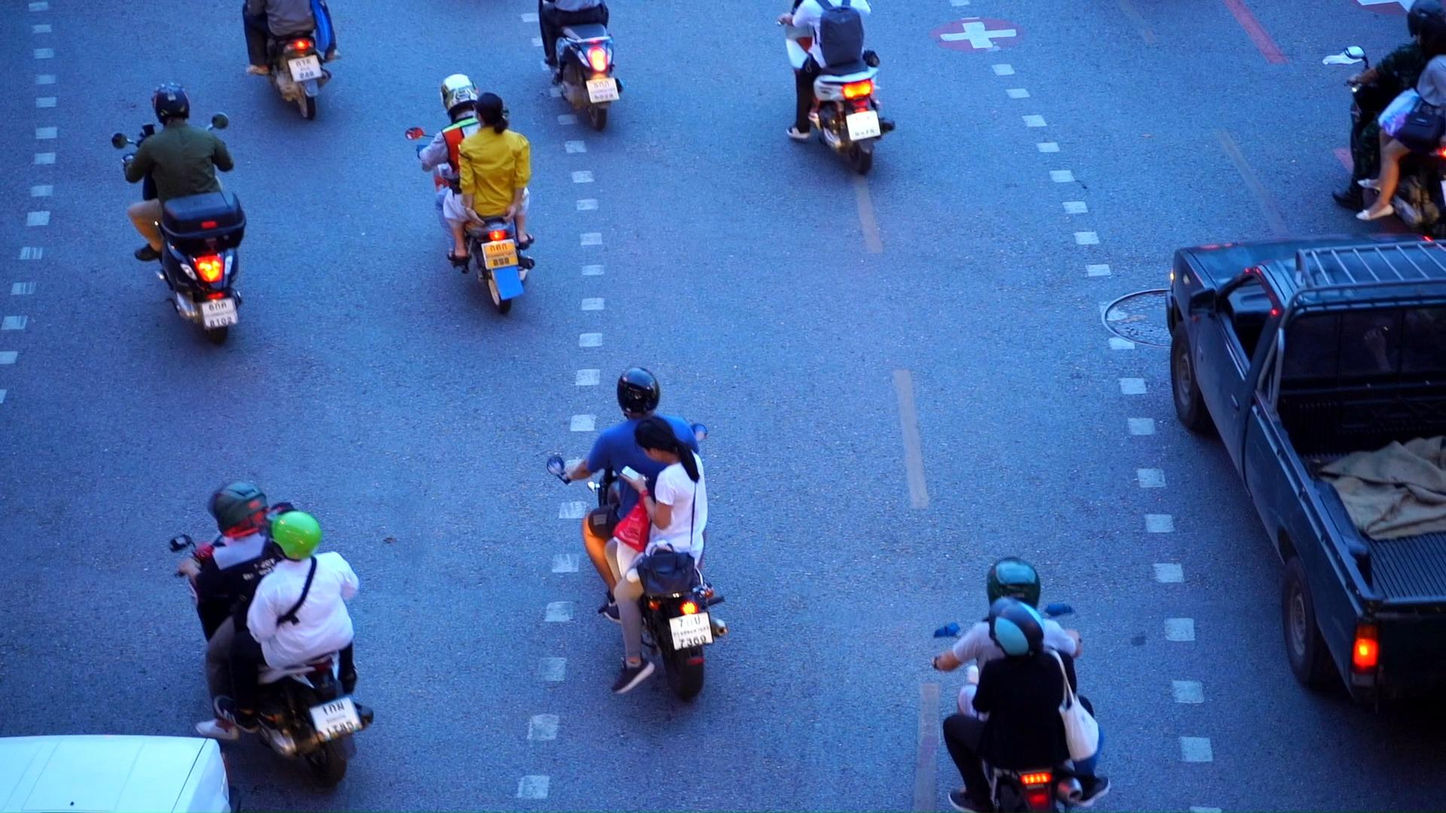driver: (168, 479, 375, 787), (547, 366, 727, 702), (928, 557, 1111, 813), (110, 81, 248, 345), (406, 74, 536, 315), (1332, 0, 1446, 238), (777, 0, 895, 175), (243, 0, 340, 120), (538, 0, 624, 130)
helmet: (208, 479, 269, 538), (258, 506, 322, 562), (989, 595, 1045, 659), (986, 557, 1041, 611), (617, 366, 660, 420), (151, 81, 190, 124), (440, 74, 479, 117), (1407, 0, 1446, 38)
no-helmet: (634, 416, 698, 464), (472, 92, 508, 134), (1416, 14, 1446, 62)
